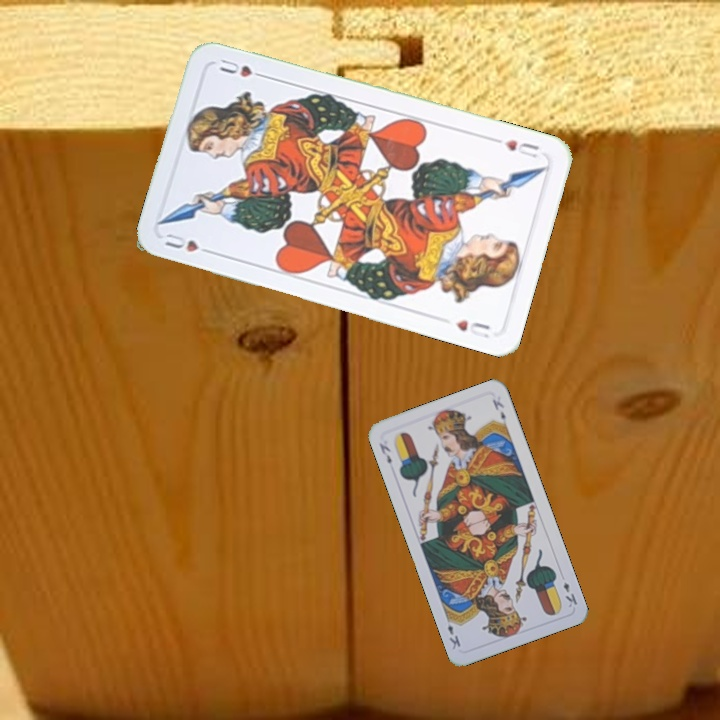EK: (559, 578, 580, 610), (375, 439, 394, 466)
HU: (160, 229, 217, 257), (489, 134, 542, 161)
